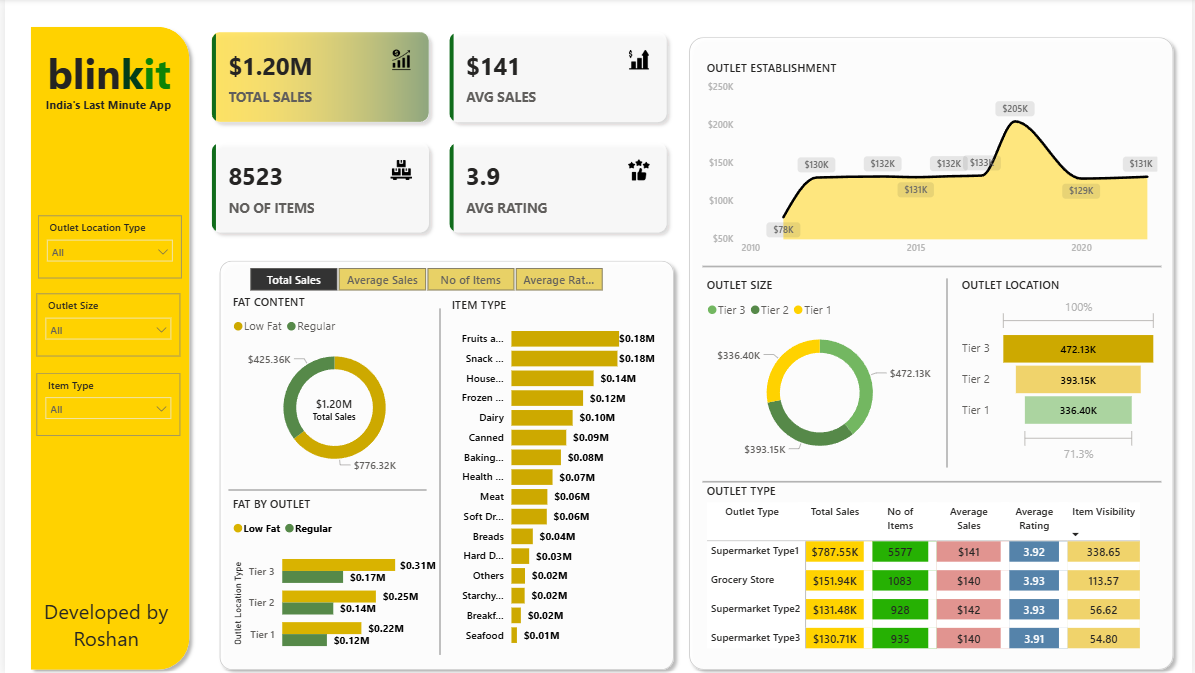

What the dashboard file says about the page in this screenshot:
{"tool":"powerbi","page":{"name":"Home","canvas":[1400,800],"ordinal":0},"visuals":[{"type":"shape","box":[21.2,24.7,205,775.9],"z":0},{"type":"textbox","box":[26.5,49.5,192.6,77.8],"z":1000},{"type":"textbox","box":[37.1,111.3,169.7,46],"z":2000},{"type":"cardVisual","fields":{"Data":["BlinkIT Grocery Data.Total Sales","BlinkIT Grocery Data.Average Sales","BlinkIT Grocery Data.No of Items","BlinkIT Grocery Data.Avg Rating"]},"box":[226.2,23,570.9,270.4],"z":3000},{"type":"shape","box":[243.9,300.4,553.2,500.2],"z":4000},{"type":"slicer","fields":{"Values":["BlinkIT Grocery Data.Outlet Location Type"]},"box":[38.9,256.3,169.7,74.2],"z":5000},{"type":"slicer","fields":{"Values":["BlinkIT Grocery Data.Outlet Size"]},"box":[37.1,348.2,169.7,74.2],"z":6000},{"type":"slicer","fields":{"Values":["BlinkIT Grocery Data.Item Type"]},"box":[37.1,441.8,169.7,74.2],"z":7000},{"type":"shape","box":[797.1,37.1,588.5,763.5],"z":8000},{"type":"donutChart","title":"FAT CONTENT","fields":{"Y":["BlinkIT Grocery Data.Total Sales"],"Category":["BlinkIT Grocery Data.Item Fat Content"]},"box":[263.3,348.2,249.2,220.9],"z":9000},{"type":"slicer","fields":{"Values":["Metrics.Metrics"]},"box":[263.3,311.1,464.8,40.6],"z":10000},{"type":"cardVisual","fields":{"Data":["BlinkIT Grocery Data.Total Sales"]},"box":[325.2,450.7,125.5,65.4],"z":11000},{"type":"clusteredBarChart","title":"FAT BY OUTLET","fields":{"Y":["BlinkIT Grocery Data.Total Sales"],"Category":["BlinkIT Grocery Data.Outlet Location Type"],"Series":["BlinkIT Grocery Data.Item Fat Content"]},"box":[263.3,586.8,249.2,197.9],"z":12000},{"type":"shape","box":[263.3,570.9,233.3,17.7],"z":13000},{"type":"shape","box":[470.1,365.8,84.8,408.3],"z":14000},{"type":"barChart","title":"ITEM TYPE","fields":{"Y":["BlinkIT Grocery Data.Total Sales"],"Category":["BlinkIT Grocery Data.Item Type"]},"box":[521.4,351.7,249.2,422.4],"z":15000},{"type":"shape","box":[821.8,311.1,540.8,10.6],"z":16000},{"type":"donutChart","title":"OUTLET SIZE","fields":{"Y":["BlinkIT Grocery Data.Total Sales"],"Category":["BlinkIT Grocery Data.Outlet Location Type"]},"box":[821.8,328.7,275.7,224.5],"z":17000},{"type":"shape","box":[1067.5,330.5,84.8,222.7],"z":18000},{"type":"funnel","title":"OUTLET LOCATION","fields":{"Y":["Sum(BlinkIT Grocery Data.Sales)"],"Category":["BlinkIT Grocery Data.Outlet Location Type"]},"box":[1122.3,328.7,240.4,222.7],"z":19000},{"type":"shape","box":[821.8,560.2,540.8,19.4],"z":20000},{"type":"pivotTable","title":"OUTLET TYPE","fields":{"Values":["BlinkIT Grocery Data.Total Sales","BlinkIT Grocery Data.No of Items","BlinkIT Grocery Data.Average Sales","BlinkIT Grocery Data.Average Rating","Sum(BlinkIT Grocery Data.Item Visibility)"],"Rows":["BlinkIT Grocery Data.Outlet Type"]},"box":[821.8,570.9,540.8,213.8],"z":21000},{"type":"lineChart","title":"OUTLET ESTABLISHMENT","fields":{"Category":["BlinkIT Grocery Data.Outlet Establishment Year"],"Y":["BlinkIT Grocery Data.Total Sales"]},"box":[821.8,72.5,540.8,238.6],"z":22000},{"type":"textbox","box":[31.8,699.9,175,74.2],"z":22001}]}

Visuals, with their boxes in screenshot pixels (x1, y1, x2, y2), scaled from the page's 1400x800 canvas onto the 1195x673 screenshot:
shape: 18:21:193:672
textbox: 23:42:187:107
textbox: 32:94:177:132
cardVisual - BlinkIT Grocery Data.Total Sales x BlinkIT Grocery Data.Average Sales: 193:19:680:247
shape: 208:253:680:672
slicer - BlinkIT Grocery Data.Outlet Location Type: 33:216:178:278
slicer - BlinkIT Grocery Data.Outlet Size: 32:293:177:355
slicer - BlinkIT Grocery Data.Item Type: 32:372:177:434
shape: 680:31:1183:672
"FAT CONTENT" donutChart: 225:293:437:479
slicer - Metrics.Metrics: 225:262:621:296
cardVisual - BlinkIT Grocery Data.Total Sales: 278:379:385:434
"FAT BY OUTLET" clusteredBarChart: 225:494:437:660
shape: 225:480:424:495
shape: 401:308:474:651
"ITEM TYPE" barChart: 445:296:658:651
shape: 701:262:1163:271
"OUTLET SIZE" donutChart: 701:277:937:465
shape: 911:278:984:465
"OUTLET LOCATION" funnel: 958:277:1163:464
shape: 701:471:1163:488
"OUTLET TYPE" pivotTable: 701:480:1163:660
"OUTLET ESTABLISHMENT" lineChart: 701:61:1163:262
textbox: 27:589:177:651
